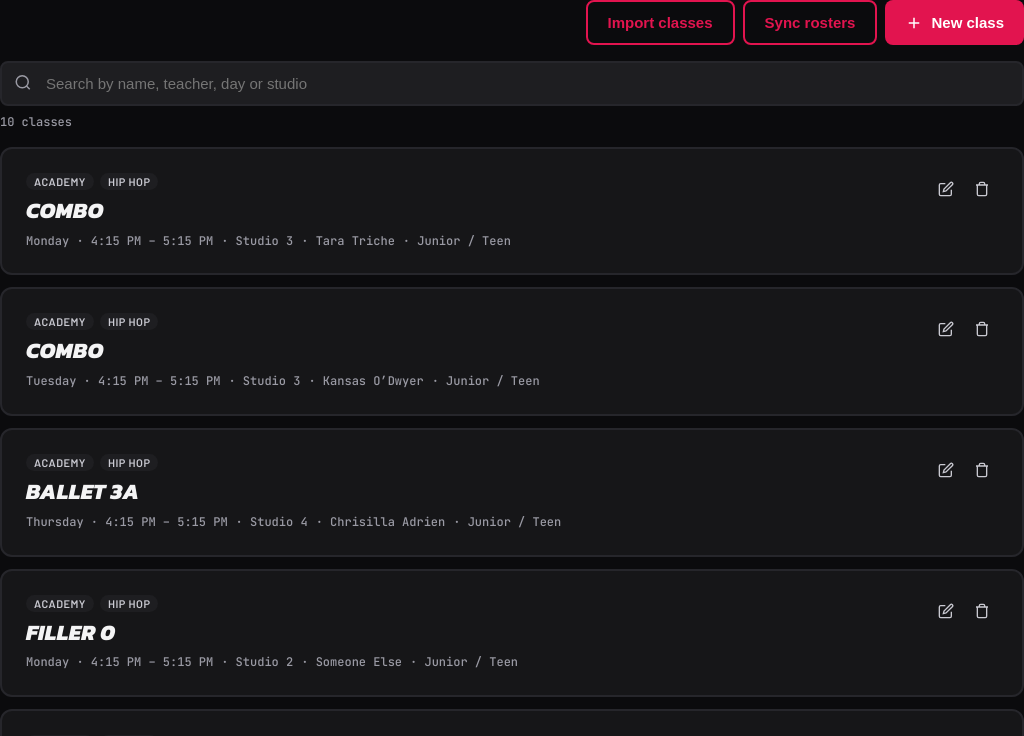
Test case: a program with a real number of classes › finds a class by its teacher
This screenshot has width=1024, height=736.
In the field named "Search classes": (512, 84) [0, 61, 1023, 106], type "chrisilla"
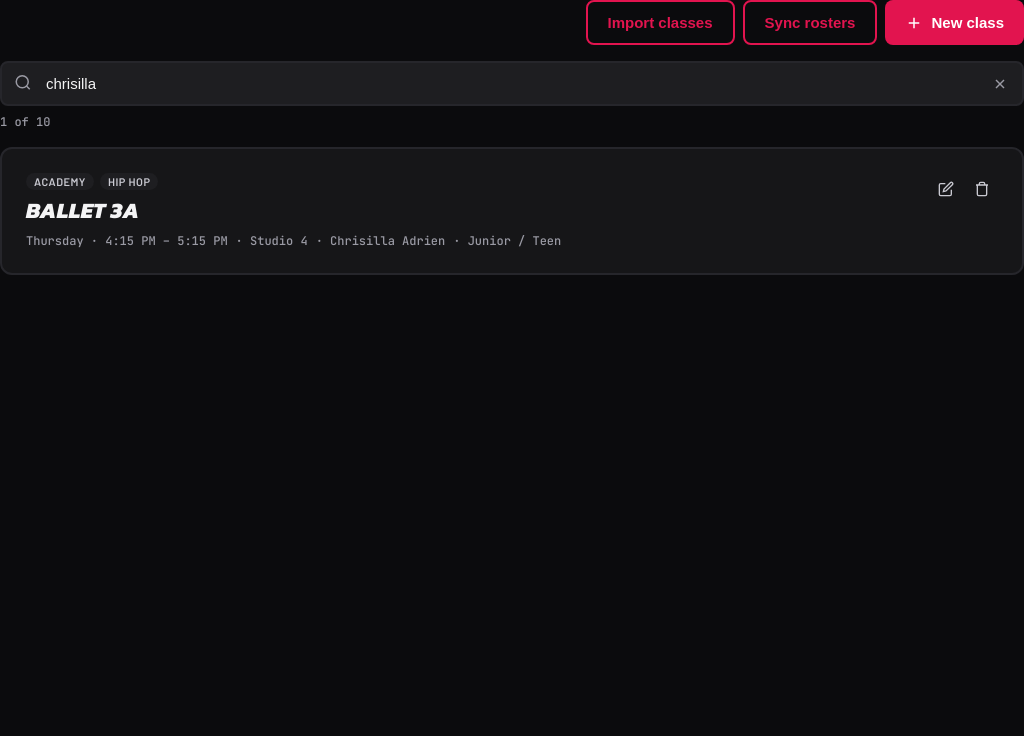
Expected: the heading "Ballet 3A" is shown, [26, 194, 140, 227]
Expected: the heading "Filler 0" is gone
Expected: the text "1 of 10" is shown, [0, 114, 50, 130]
